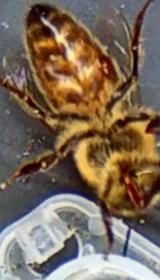varroa_mite: (88, 46, 130, 86)
